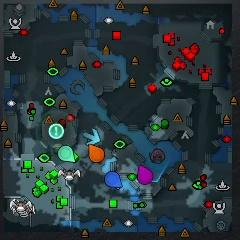Other: (48, 123, 64, 139)
p1: (104, 171, 123, 188)
p2: (58, 145, 75, 163)
p3: (137, 165, 153, 185)
p5: (88, 144, 105, 163)
x3: (83, 128, 100, 146)
